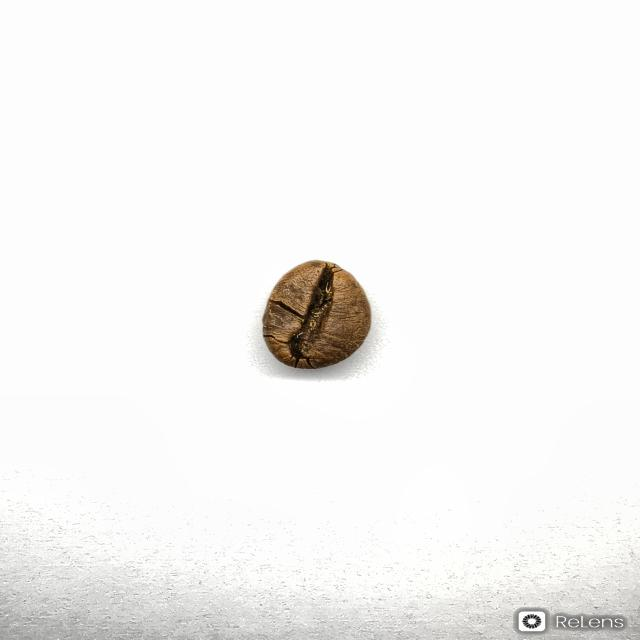Good bean: (261, 259, 372, 369)
